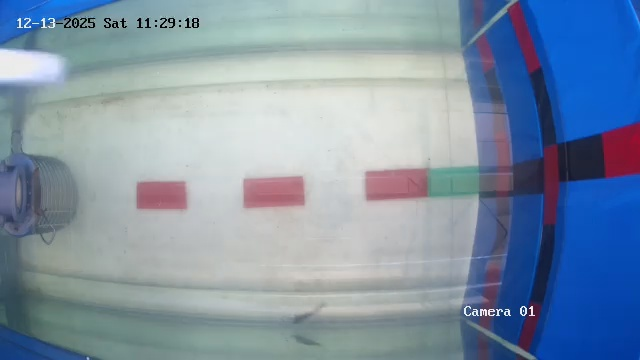fish: (289, 304, 337, 325)
